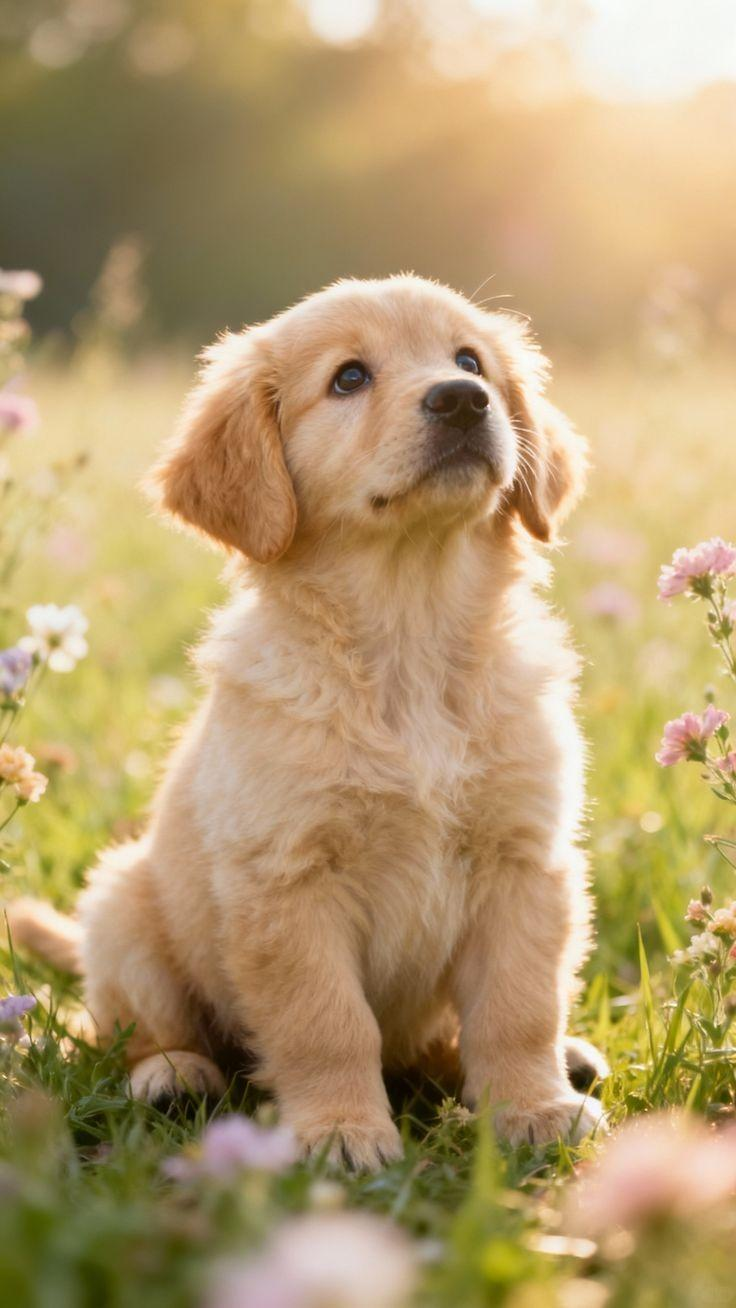puppy-dog: (3, 276, 612, 1178)
